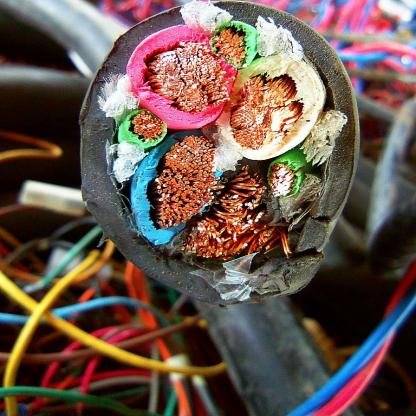wires: (1, 1, 415, 413)
